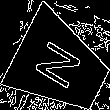N_SE: (32, 37, 90, 96)
